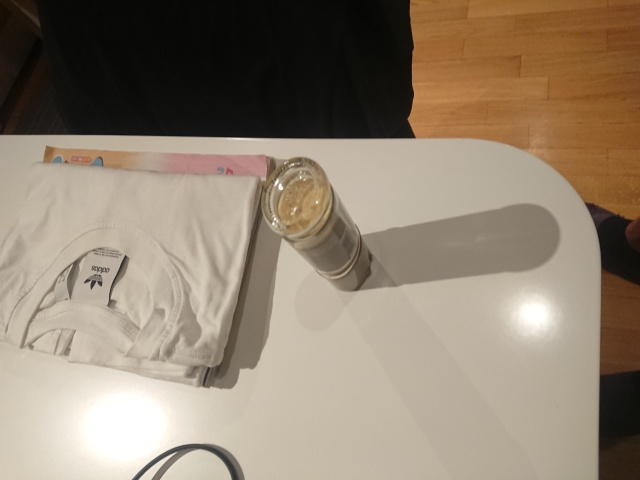Kotanyi Garlic Granules 70g: (258, 154, 375, 295)
